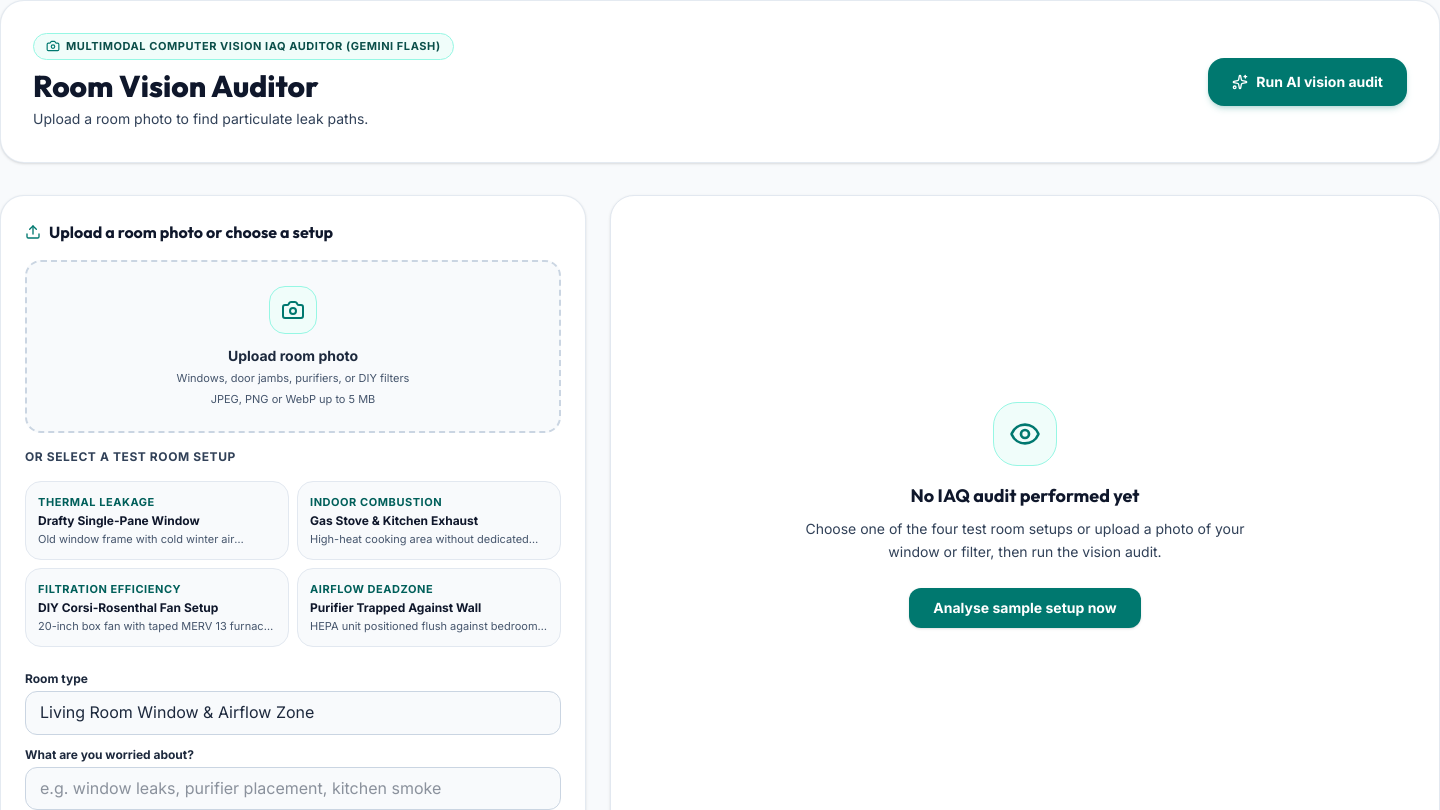
Test: IAQRoomScanner › offers the sample setups and applies their context
Click the button "Drafty Single-Pane Window".
click(157, 521)  # box [25,481,289,560]
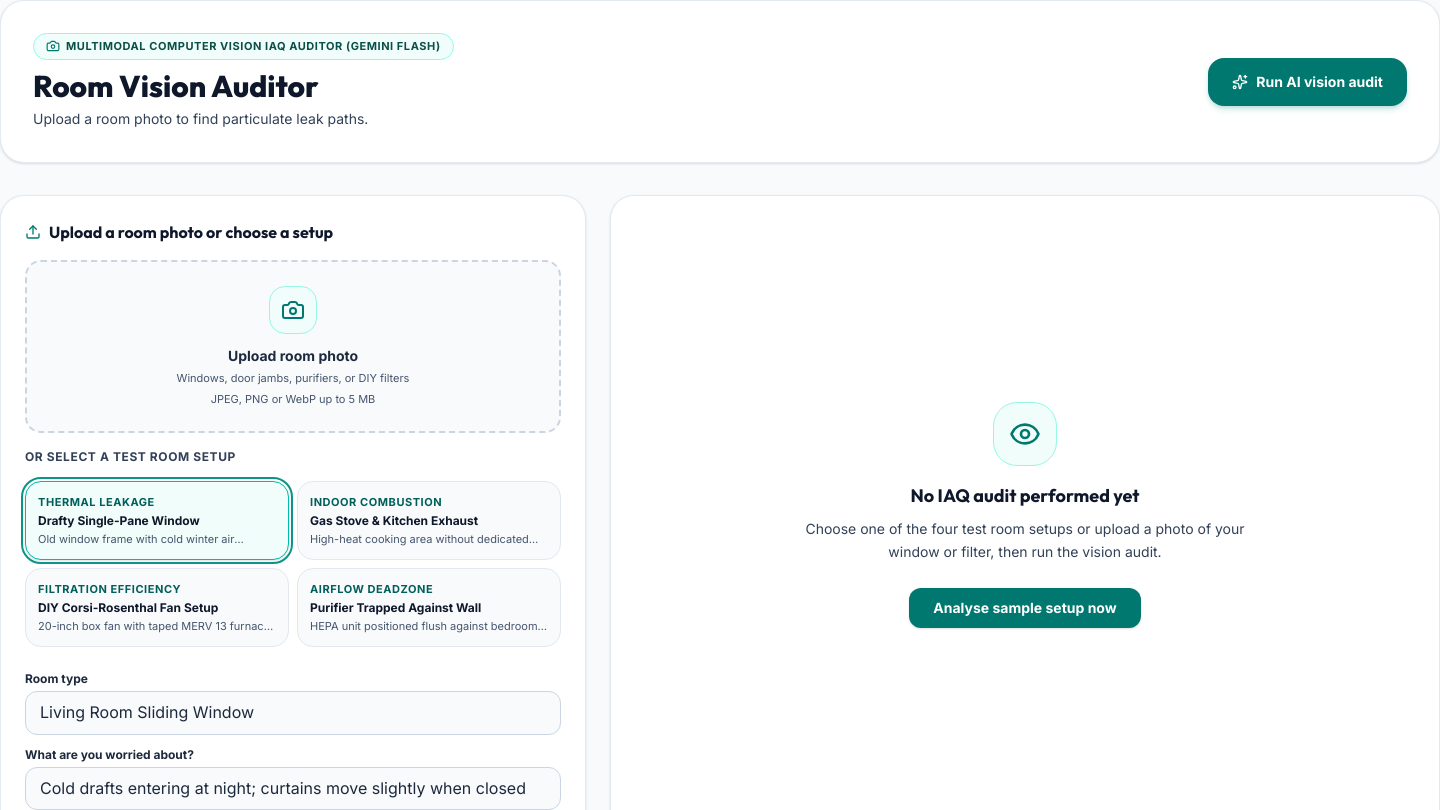
Check: the field labelled "Room type" holds "Living Room Sliding Window", box [25,691,561,735]
Check: the field labelled "What are you worried about?" holds "Cold drafts entering at night; curtains move slightly when closed", box [25,767,561,809]
